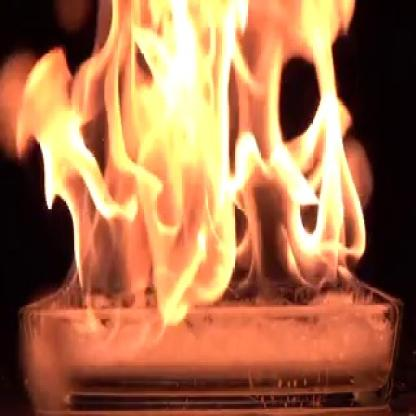fire: (12, 0, 370, 333)
